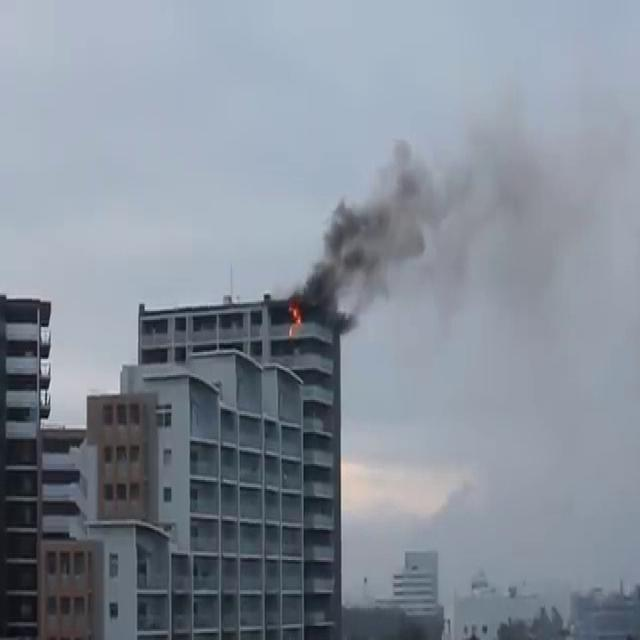Fire: (285, 292, 305, 342)
Smoke: (298, 98, 561, 332)
